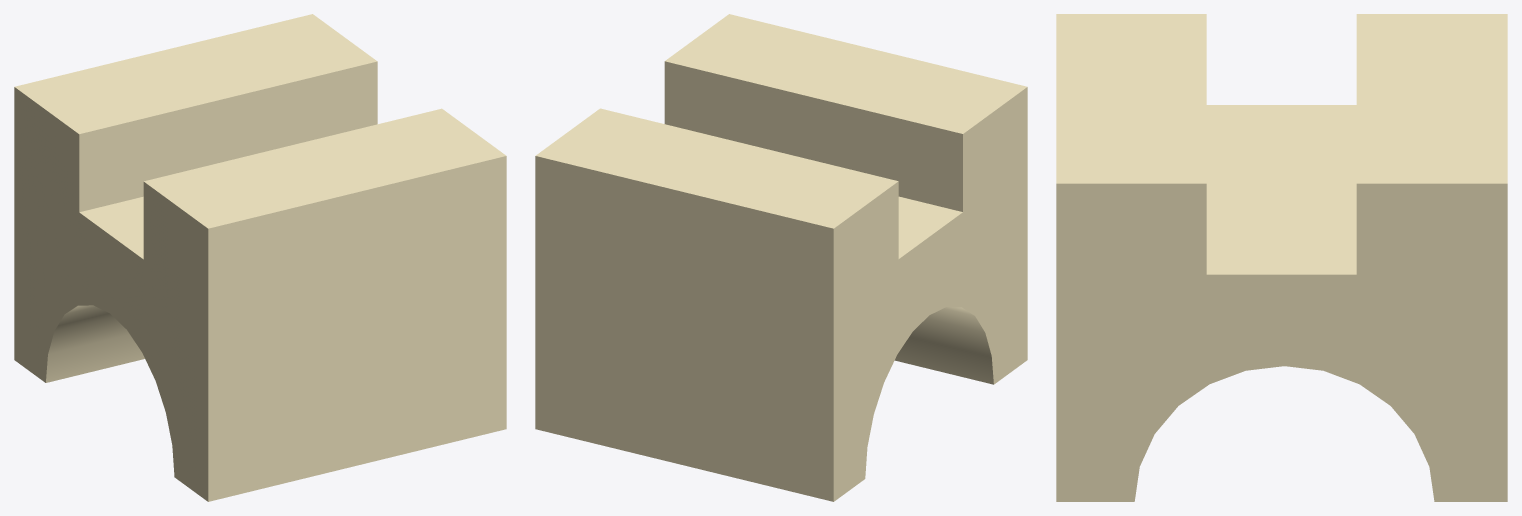
3 views of the same model, side by side, from view 1: azimuth 30°, elevation 25°; view 2: azimuth 150°, elevation 25°; view 3: azimuth 270°, elevation 25° (orthographic). The views are drawn at different scales.
Visible parts, largest first — view 1: Root Node; view 2: Root Node; view 3: Root Node.
Boxes of the visible parts, <box> form: Root Node: <box>14,14,506,501</box>; Root Node: <box>535,14,1027,501</box>; Root Node: <box>1056,14,1507,501</box>.
Size of the model in its own units: 40 by 35 by 45.
